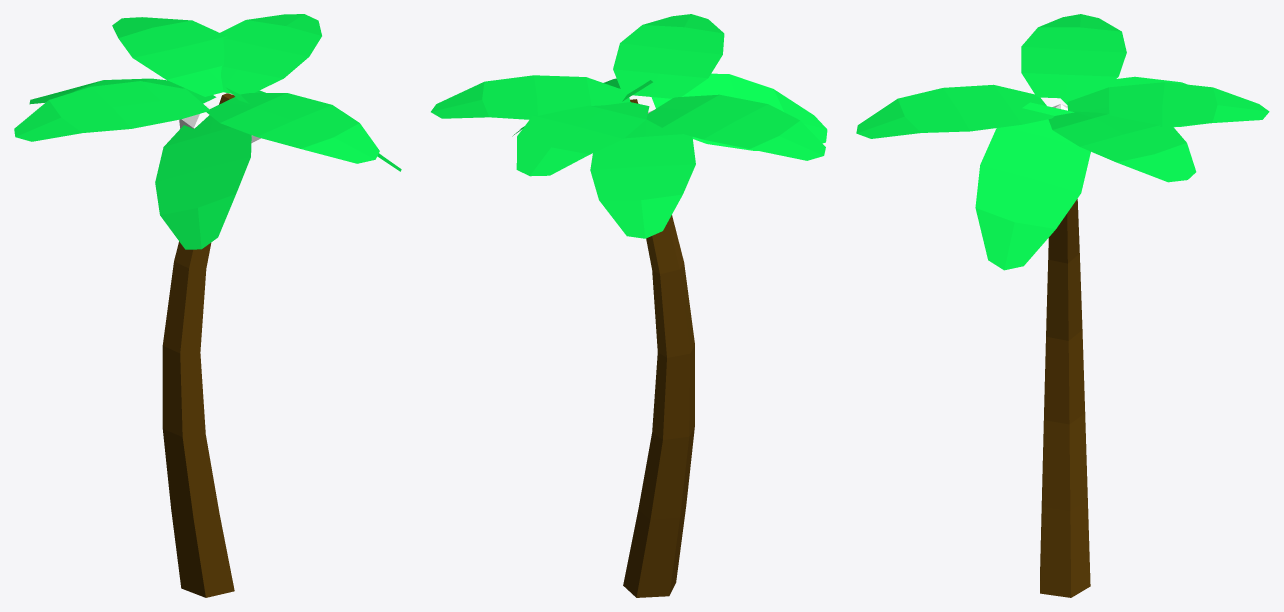
3 renders of one model, left to right at view 1: azimuth 30°, elevation 25°; view 2: azimuth 150°, elevation 25°; view 3: azimuth 270°, elevation 25°, orthographic.
Visible parts, largest first — view 1: 柱体; view 2: 柱体; view 3: 柱体.
Boxes of the visible parts, bbox=[...] form: 柱体: bbox=[14, 14, 401, 597]; 柱体: bbox=[431, 14, 827, 597]; 柱体: bbox=[856, 14, 1269, 597].
Bounding box in the file's own units: 14.21 × 19.39 × 14.74.
Materials: 1 (1 with a texture image).
